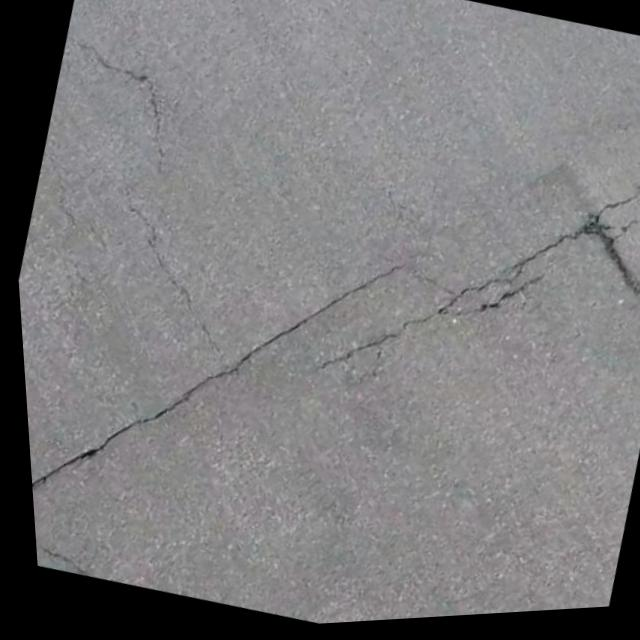Crack: (315, 78, 640, 430), (17, 318, 241, 606), (174, 246, 355, 445)
